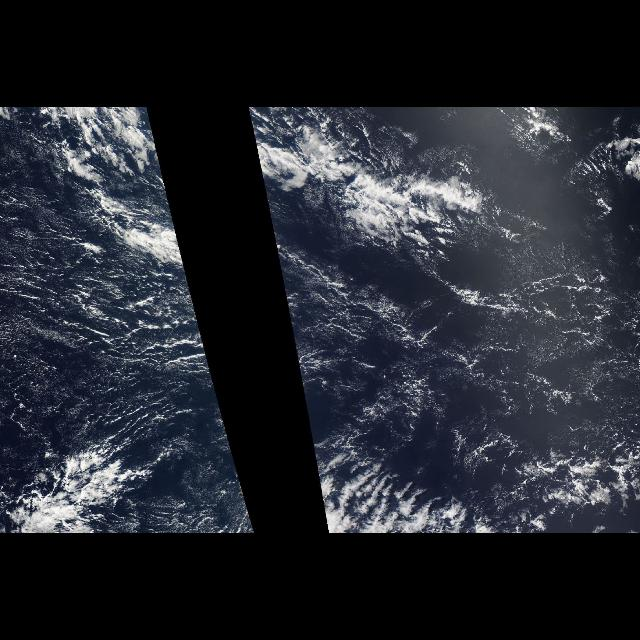Sugar: (279, 226, 639, 448), (3, 250, 229, 434)
